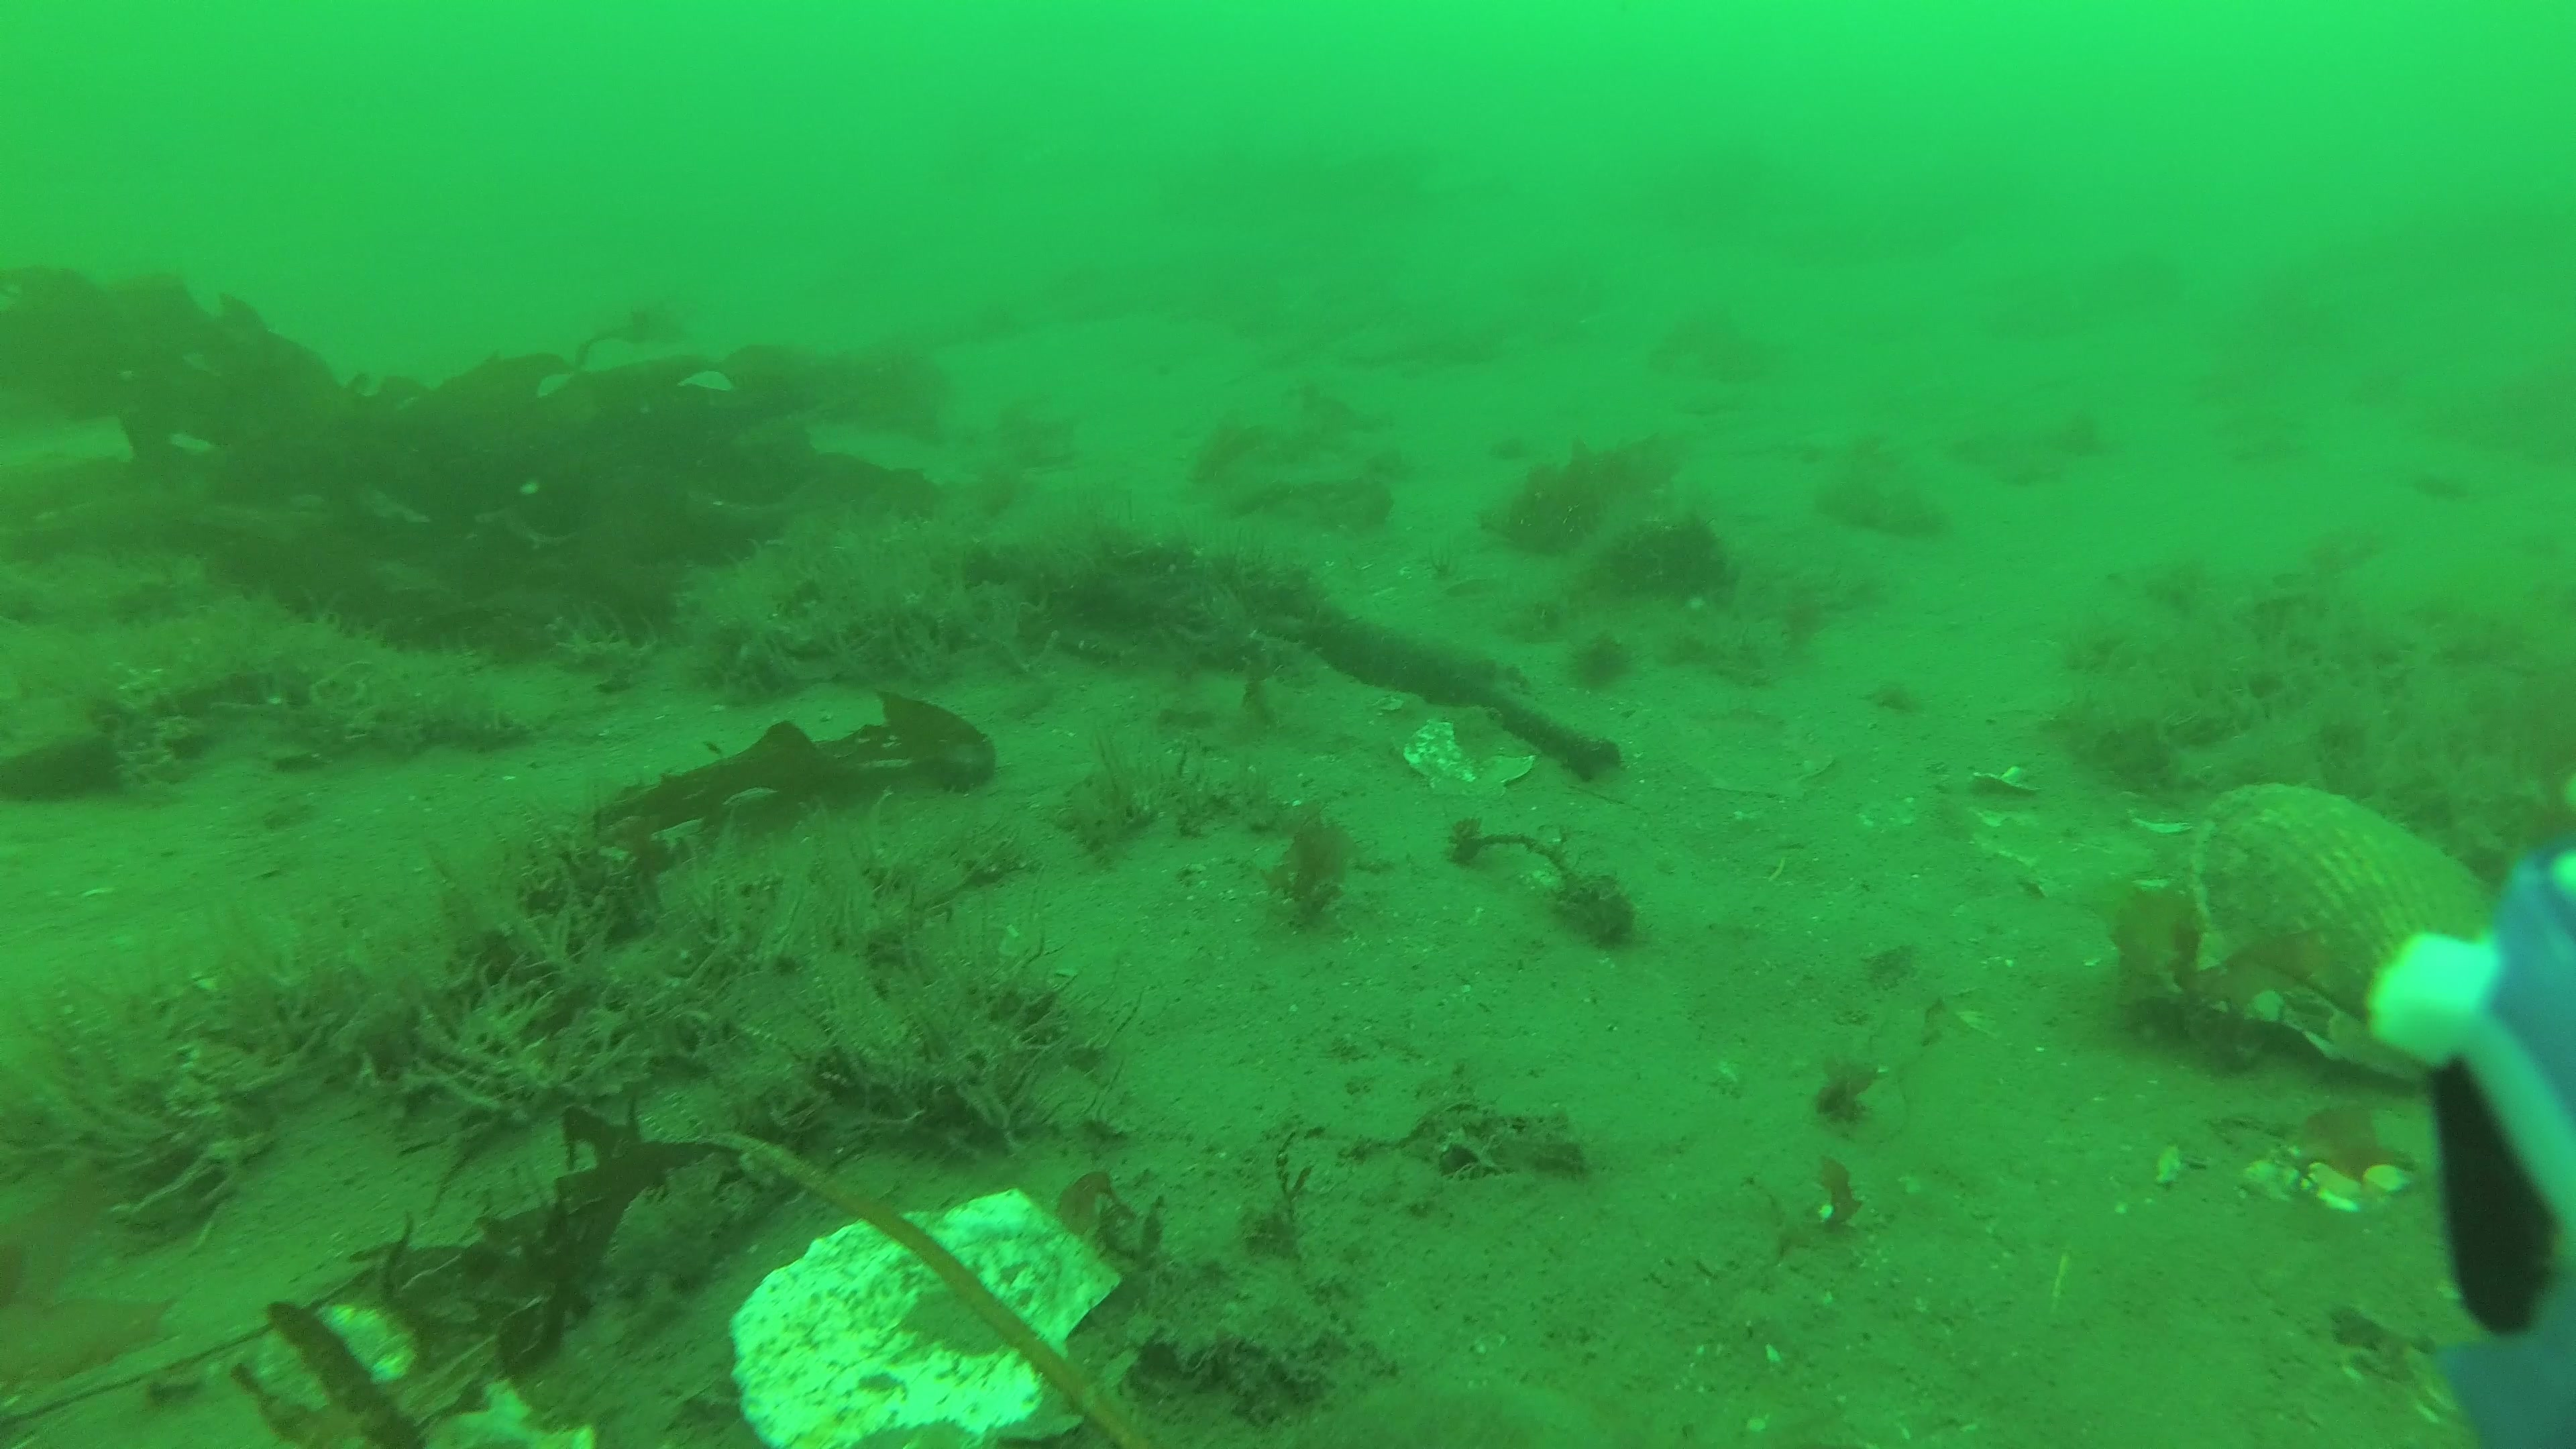scallop: (717, 1191, 1125, 1449), (2178, 778, 2500, 1088), (1401, 706, 1543, 807)
